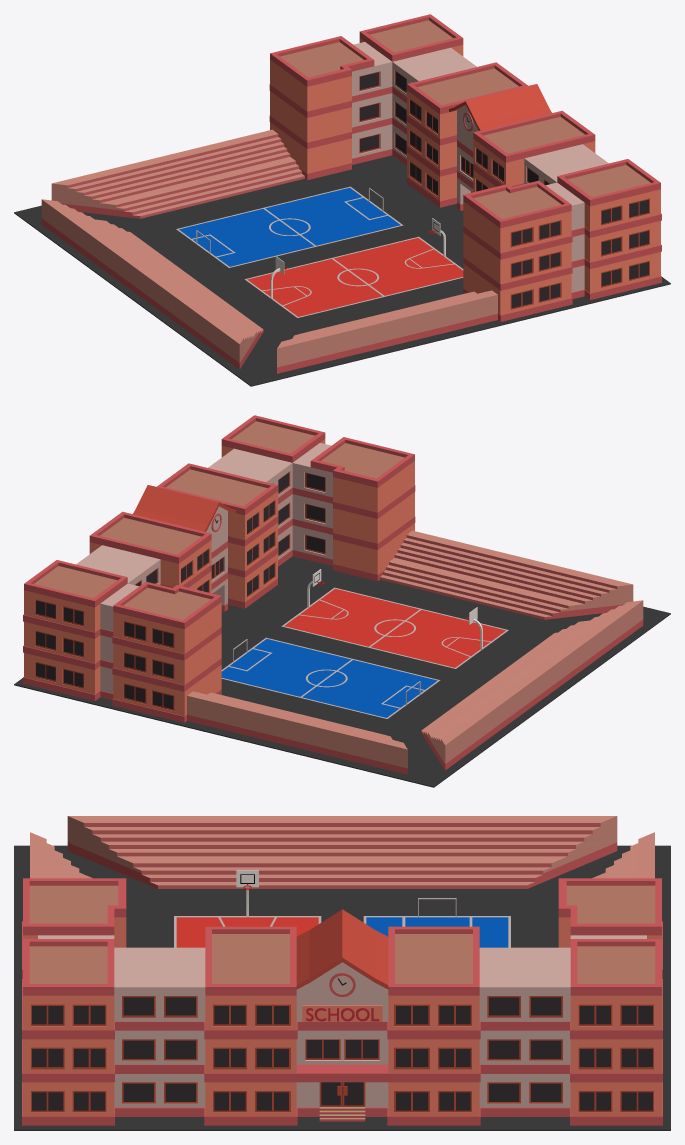
Rendered from building2.fbx.
3 views of the same model, one above another, from view 1: azimuth 30°, elevation 25°; view 2: azimuth 150°, elevation 25°; view 3: azimuth 270°, elevation 25° (orthographic). The views are drawn at different scales.
Parts seen in each view (by area): view 1: PublicBuilding_School_Cube.174_Cube.153; view 2: PublicBuilding_School_Cube.174_Cube.153; view 3: PublicBuilding_School_Cube.174_Cube.153.
Boxes of the visible parts, x1,y1,x2,y2 form: PublicBuilding_School_Cube.174_Cube.153: (14, 14, 670, 386); PublicBuilding_School_Cube.174_Cube.153: (14, 415, 670, 787); PublicBuilding_School_Cube.174_Cube.153: (14, 816, 670, 1130).
Size of what is drawn, in the model's own units: 32554 by 8708 by 31830.
1 material, 1 textured.
